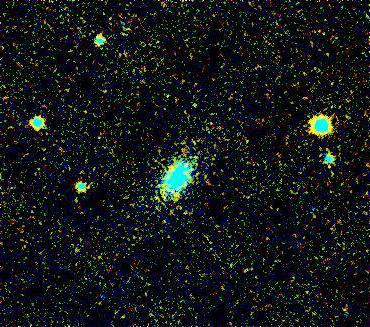star: (163, 181, 193, 211)
